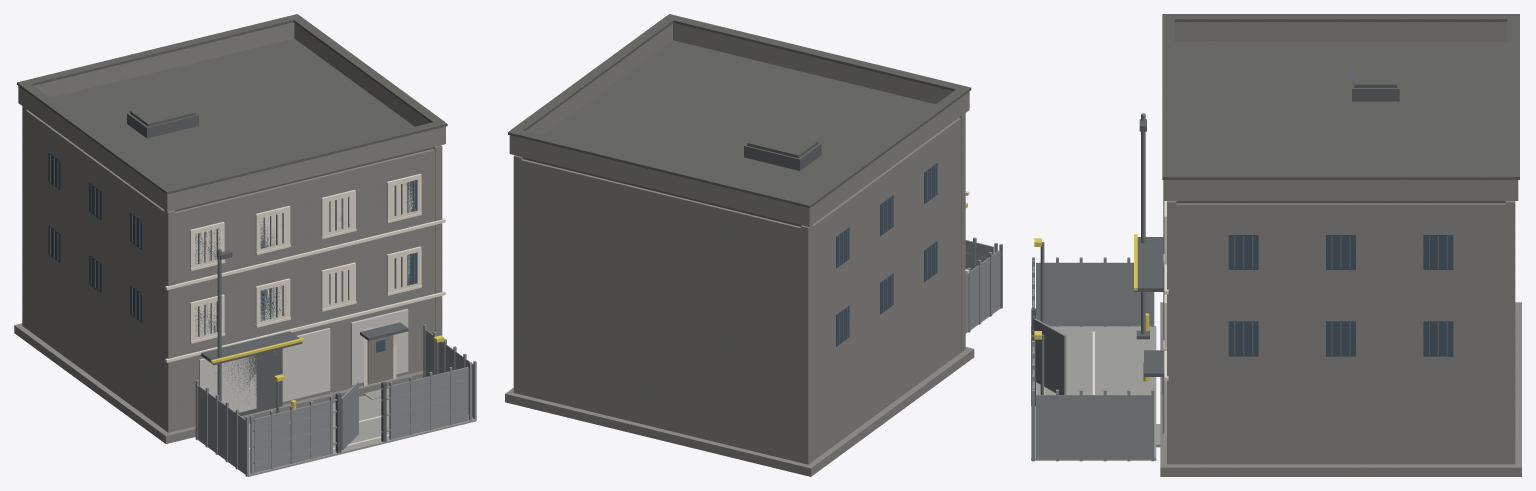
Rendered from remand-centre.glb.
3 views of the same model, side by side, from view 1: azimuth 30°, elevation 25°; view 2: azimuth 150°, elevation 25°; view 3: azimuth 270°, elevation 25° (orthographic). The views are drawn at different scales.
Visible parts, largest first — view 1: rem-wall-body, rem-roof-slab, rem-parapet-F, rem-parapet-B, rem-fence-mesh-F-0, rem-fence-mesh-F-1, rem-plinth, rem-blank-g-1, rem-corner--1--1, rem-parapet-L, rem-fence-mesh-S-1, rem-yard-surface (+28 smaller); view 2: rem-wall-body, rem-roof-slab, rem-plinth, rem-parapet-B, rem-parapet-F, rem-corner--1-1, rem-parapet-L, rem-coping-B, rem-coping-F, rem-parapet-R, rem-corner-1-1, rem-coping-L (+5 smaller); view 3: rem-wall-body, rem-roof-slab, rem-parapet-R, rem-fence-mesh-S1, rem-parapet-L, rem-yard-surface, rem-plinth, rem-fence-mesh-S-1, rem-corner-1-1, rem-coping-R, rem-coping-L, rem-corner-1--1 (+14 smaller).
Part boxes in pixels (x1,y1,x2,y2): rem-wall-body: (26, 110, 434, 430); rem-roof-slab: (50, 38, 433, 211); rem-parapet-F: (163, 126, 445, 211); rem-parapet-B: (18, 22, 294, 105); rem-fence-mesh-F-0: (254, 402, 330, 472); rem-fence-mesh-F-1: (392, 369, 468, 438); rem-plinth: (14, 323, 423, 443); rem-blank-g-1: (274, 328, 330, 401); rem-corner--1--1: (164, 210, 175, 432); rem-parapet-L: (22, 89, 163, 208); rem-fence-mesh-S-1: (197, 385, 245, 473); rem-yard-surface: (198, 395, 475, 476); rem-wall-body: (521, 118, 960, 462); rem-roof-slab: (523, 40, 935, 226); rem-plinth: (505, 347, 974, 476); rem-parapet-B: (509, 135, 813, 226); rem-parapet-F: (673, 23, 969, 112); rem-corner--1-1: (800, 225, 812, 464); rem-parapet-L: (814, 95, 965, 223); rem-coping-B: (508, 128, 813, 208); rem-coping-F: (664, 14, 971, 91); rem-parapet-R: (526, 23, 672, 135); rem-corner-1-1: (513, 155, 522, 394); rem-coping-L: (803, 89, 968, 205); rem-wall-body: (1176, 203, 1505, 464); rem-roof-slab: (1174, 41, 1507, 203); rem-parapet-R: (1173, 180, 1508, 200); rem-fence-mesh-S1: (1036, 395, 1151, 458); rem-parapet-L: (1174, 22, 1507, 41); rem-yard-surface: (1031, 326, 1156, 460); rem-plinth: (1160, 302, 1521, 476); rem-fence-mesh-S-1: (1036, 262, 1151, 326); rem-corner-1-1: (1505, 201, 1515, 464); rem-coping-R: (1168, 172, 1513, 179); rem-coping-L: (1168, 14, 1513, 21); rem-corner-1--1: (1167, 201, 1176, 464).
Size of the model in its own units: 13.1 by 11.05 by 16.45.
12 materials, 2 textured.
